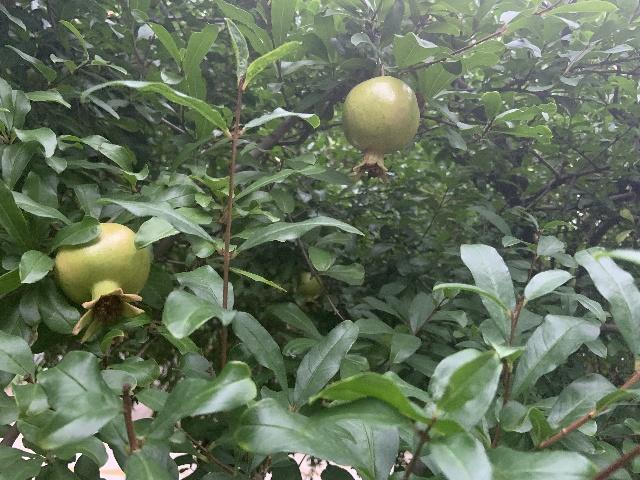mid-growth: (54, 222, 150, 345), (342, 75, 420, 184), (295, 272, 323, 311)
